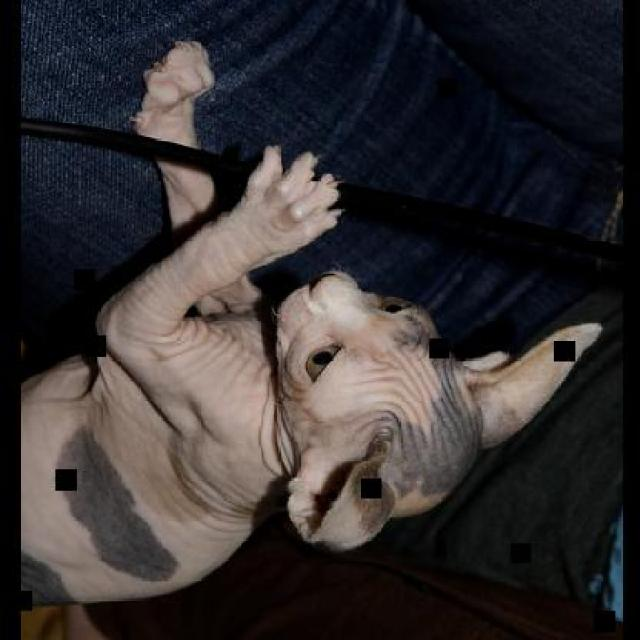unauthorized: (19, 37, 603, 605)
